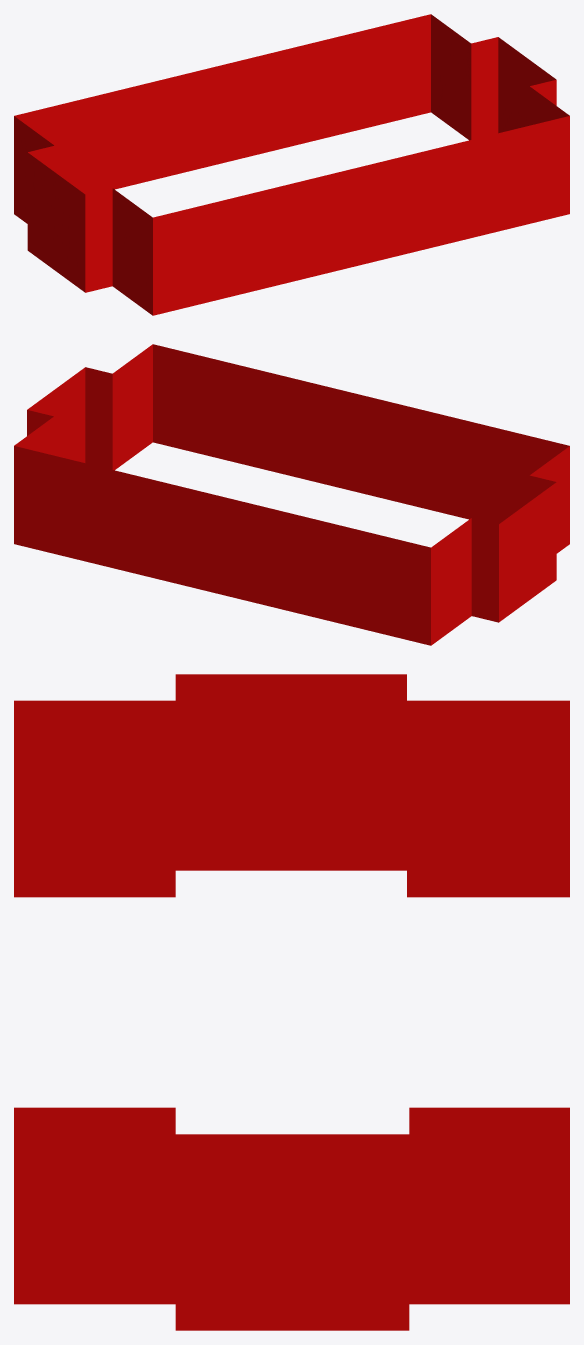
The model's file is SoccerBigChallengeCollider.fbx.
3 views of the same model, one above another, from view 1: azimuth 30°, elevation 25°; view 2: azimuth 150°, elevation 25°; view 3: azimuth 270°, elevation 25° (orthographic). The views are drawn at different scales.
Visible parts, largest first — view 1: Model; view 2: Model; view 3: Model.
Boxes of the visible parts, x1,y1,x2,y2 form: Model: (14,14,569,315); Model: (14,344,569,645); Model: (14,674,569,1330).
Size of the model in its own units: 5.22 by 1.04 by 2.67.
